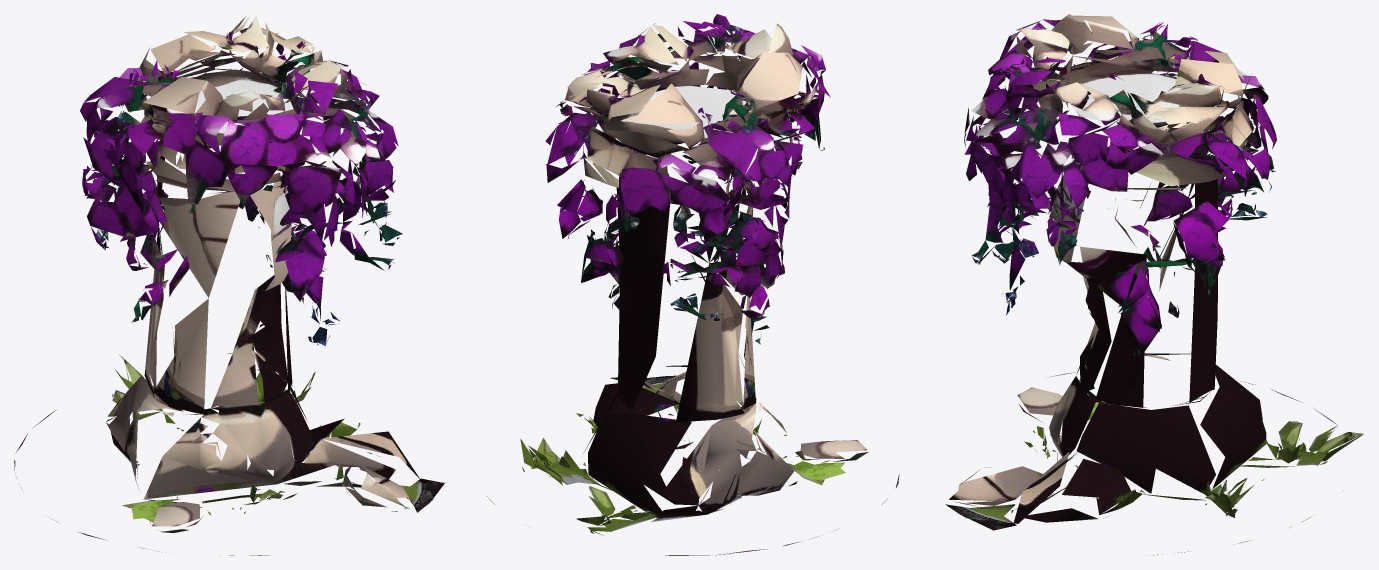
File: kale_sutun.glb
3 views of the same model, side by side, from view 1: azimuth 30°, elevation 25°; view 2: azimuth 150°, elevation 25°; view 3: azimuth 270°, elevation 25° (orthographic). The views are drawn at different scales.
Visible parts, largest first — view 1: geometry_0; view 2: geometry_0; view 3: geometry_0.
Part boxes in pixels (x1,y1,x2,y2): geometry_0: (14, 15, 445, 555); geometry_0: (487, 14, 899, 555); geometry_0: (945, 14, 1363, 555).
Bounding box in the file's own units: 0.8953 × 0.9569 × 0.8865.
Materials: 1 (1 with a texture image).
